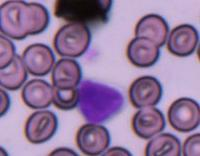L: (75, 78, 129, 125)
